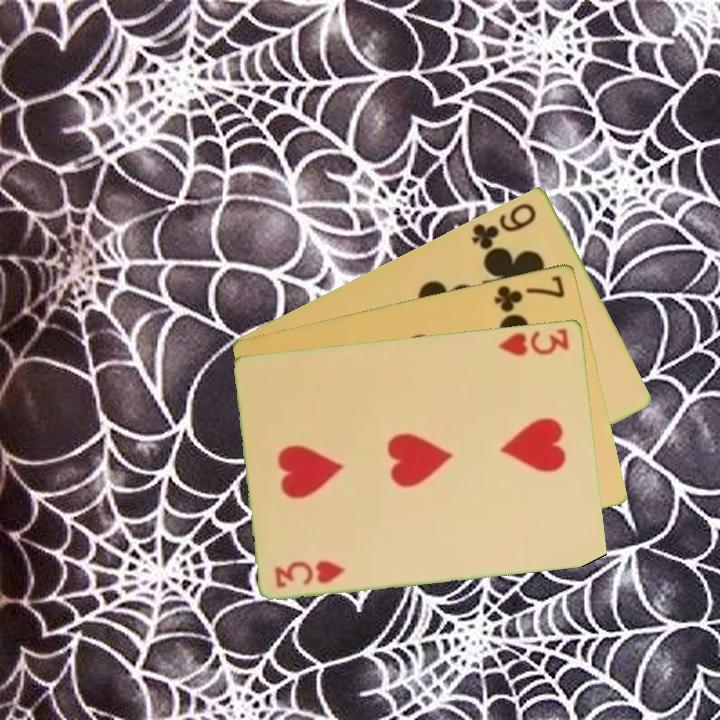3h: (495, 324, 572, 359), (272, 556, 349, 590)
7c: (491, 271, 568, 315)
9c: (468, 198, 540, 252)
